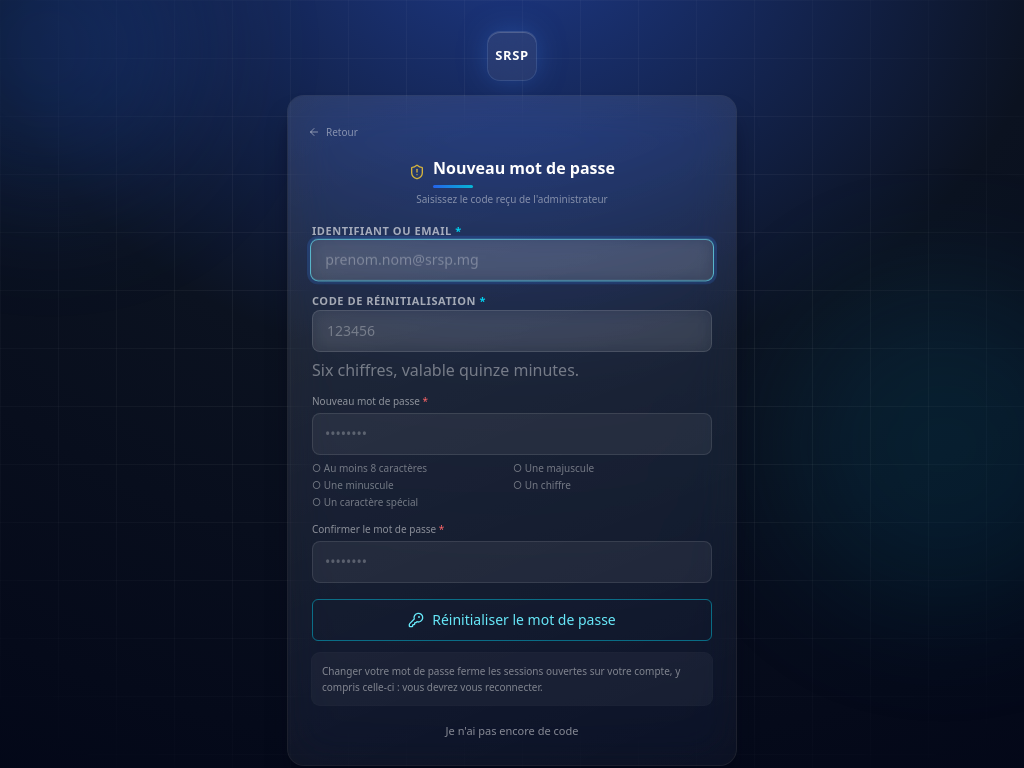
Test case: Nouveau mot de passe — consommation du code › refuse un code qui n’a pas six chiffres
Type "secretaire" into the field labelled "Identifiant ou email *" at (512, 260), box [310,239,714,281]
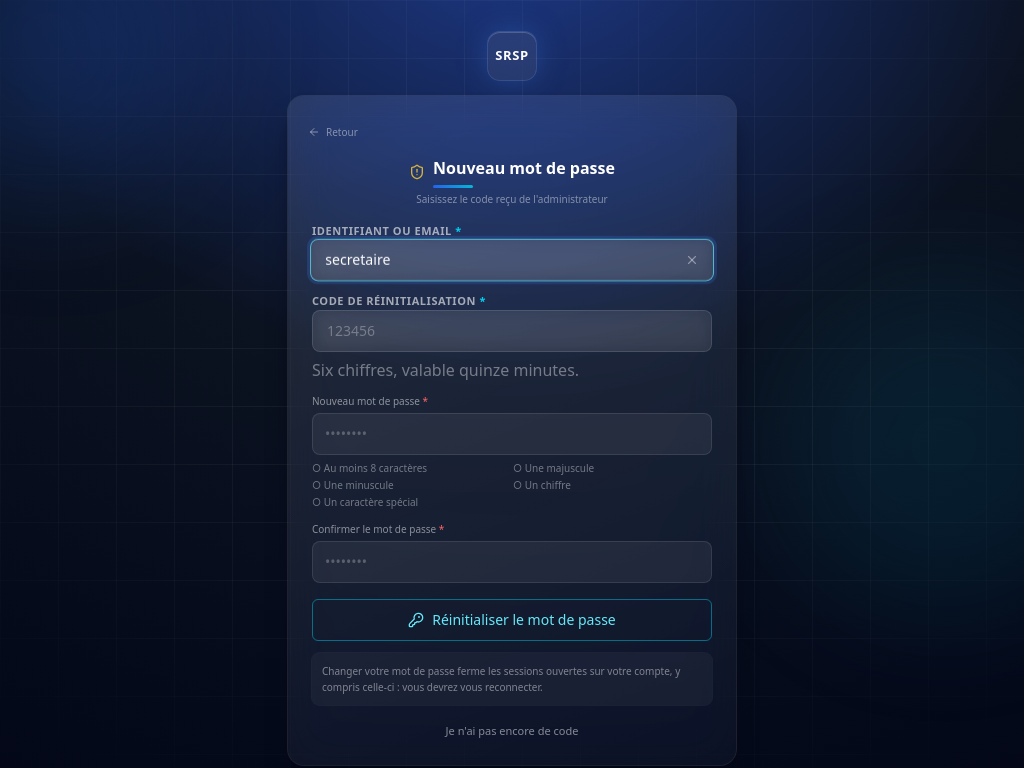
Type "12345" into the field labelled "Code de réinitialisation *" at (512, 330), box [312,310,712,352]
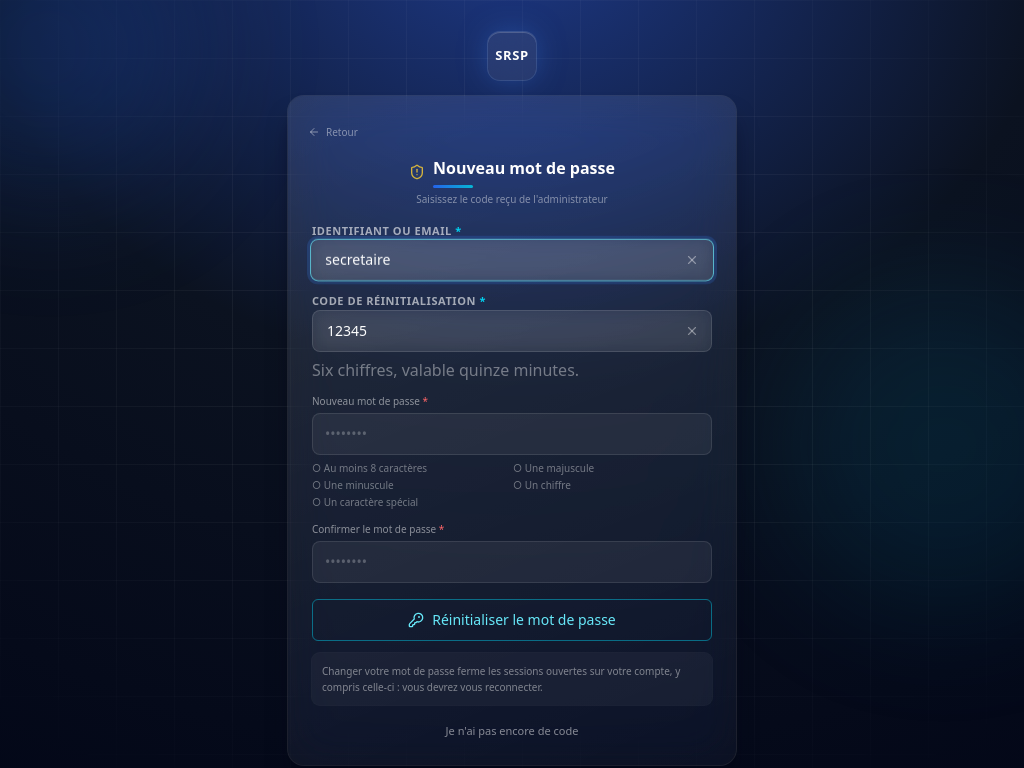
Type "Nouveau9!" into the password field labelled "Nouveau mot de passe *" at (512, 434), box [312,412,712,454]
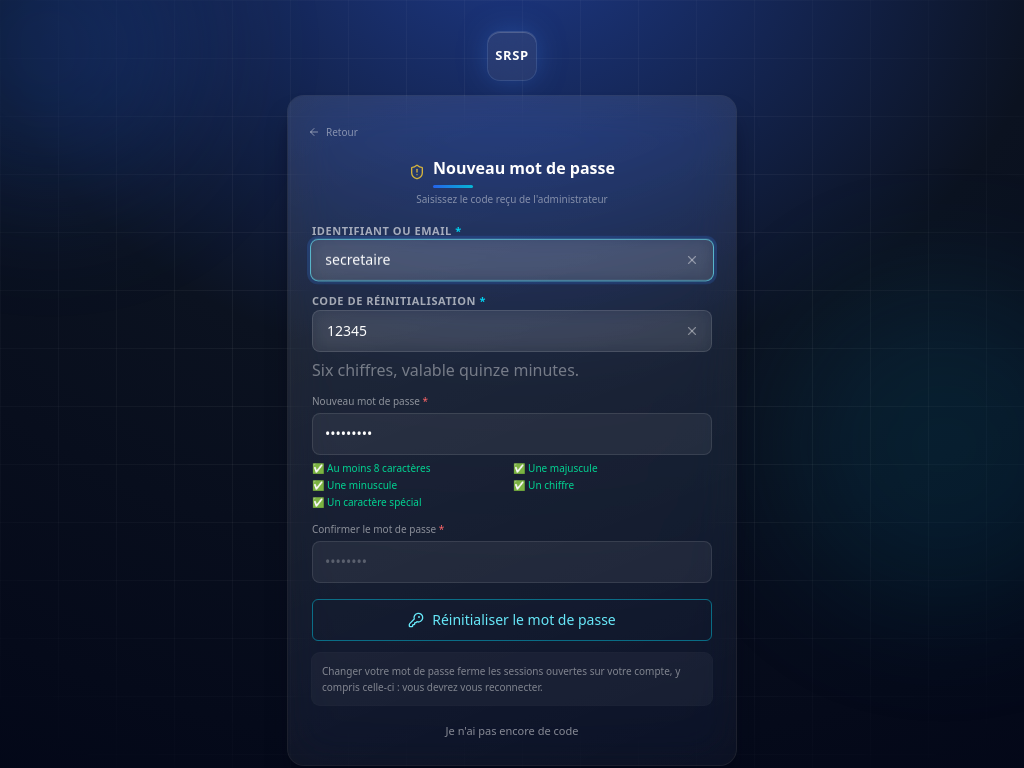
Type "Nouveau9!" into the password field labelled "Confirmer le mot de passe *" at (512, 562), box [312,540,712,582]
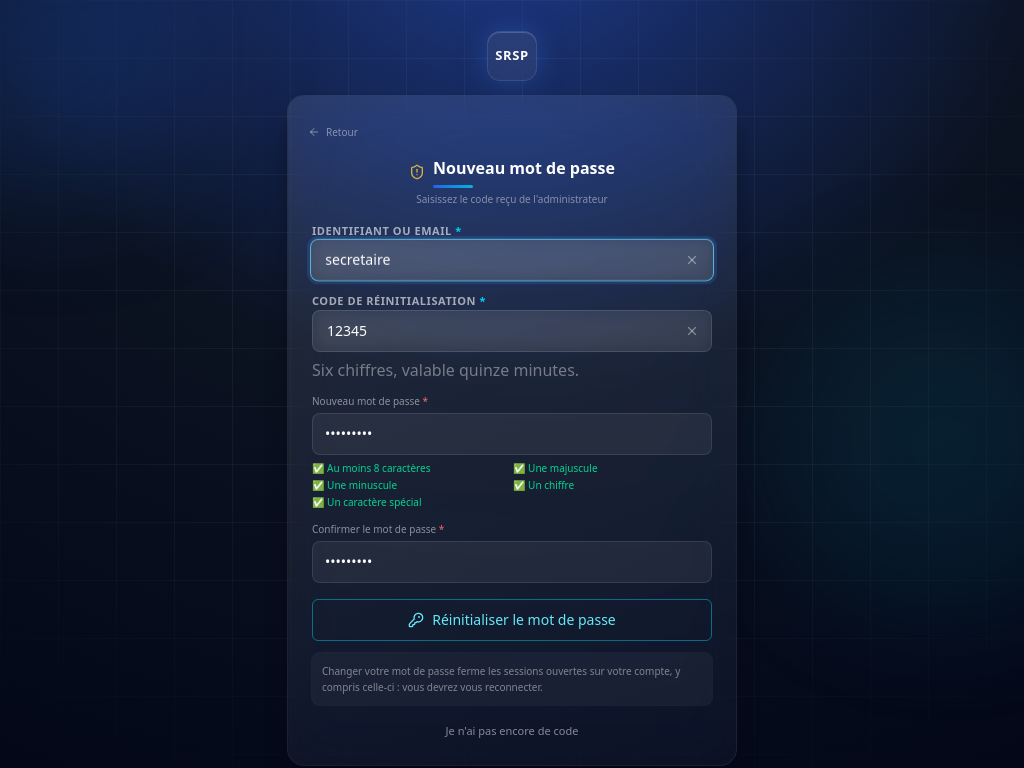
Click the button "Réinitialiser le mot de passe" at (512, 620), box [312,598,712,640]
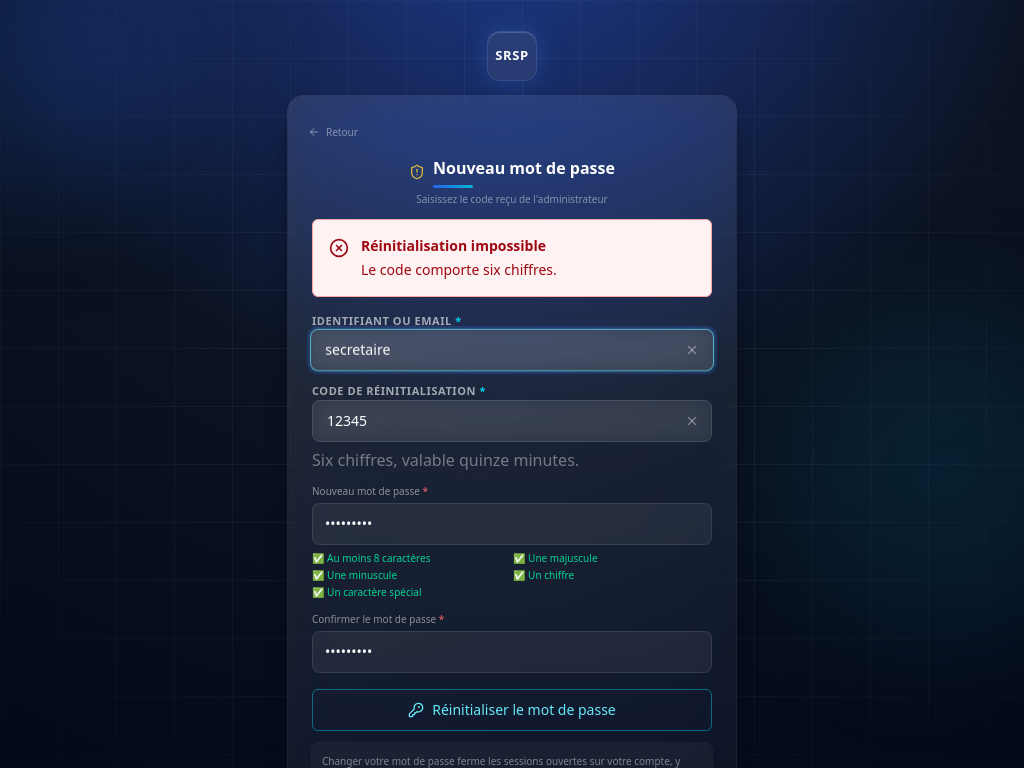
Expected: the text "Le code comporte six chiffres." is shown, [361,260,557,280]
